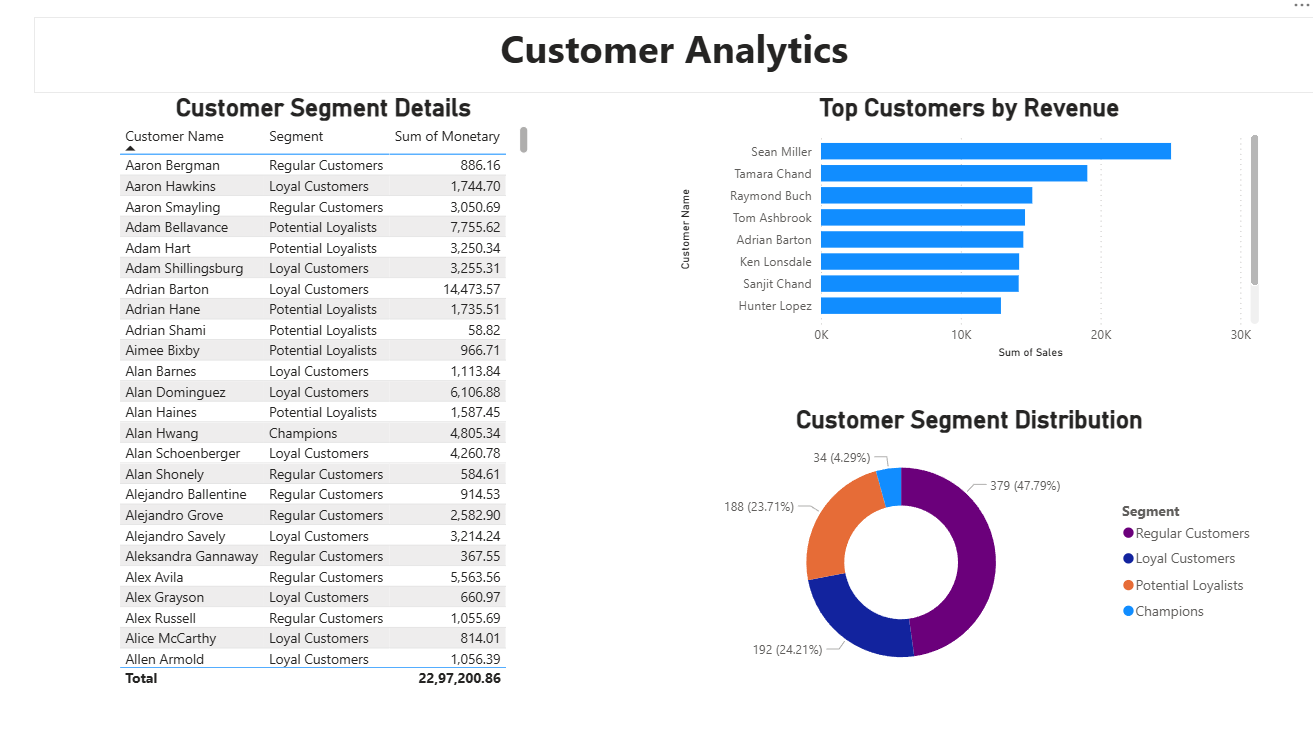

This screenshot's page, from the dashboard's own definition file:
{"tool":"powerbi","page":{"name":"Customer Analytics","canvas":[1280,720],"ordinal":2},"visuals":[{"type":"donutChart","title":"Customer Segment Distribution","fields":{"Category":["customer_segments.Segment"],"Y":["CountNonNull(customer_segments.Segment)"]},"box":[657.5,400.7,572.9,279.1],"z":0},{"type":"tableEx","title":"Customer Segment Details","fields":{"Values":["customer_segments.Customer Name","customer_segments.Segment","Sum(customer_segments.Monetary)"]},"box":[111.9,97.3,407.5,582.6],"z":1},{"type":"clusteredBarChart","title":"Top Customers by Revenue","fields":{"Category":["top_customers.Customer Name"],"Y":["Sum(top_customers.Sales)"]},"box":[657.5,97.3,572.9,262.6],"z":2},{"type":"textbox","box":[34,23.3,1246,73.9],"z":3}]}

Visuals, with their boxes in screenshot pixels (x1, y1, x2, y2), scaled from the page's 1280x720 canvas onto the 1313x730 screenshot:
"Customer Segment Distribution" donutChart: 674 406 1262 689
"Customer Segment Details" tableEx: 115 99 533 689
"Top Customers by Revenue" clusteredBarChart: 674 99 1262 365
textbox: 35 24 1312 99
